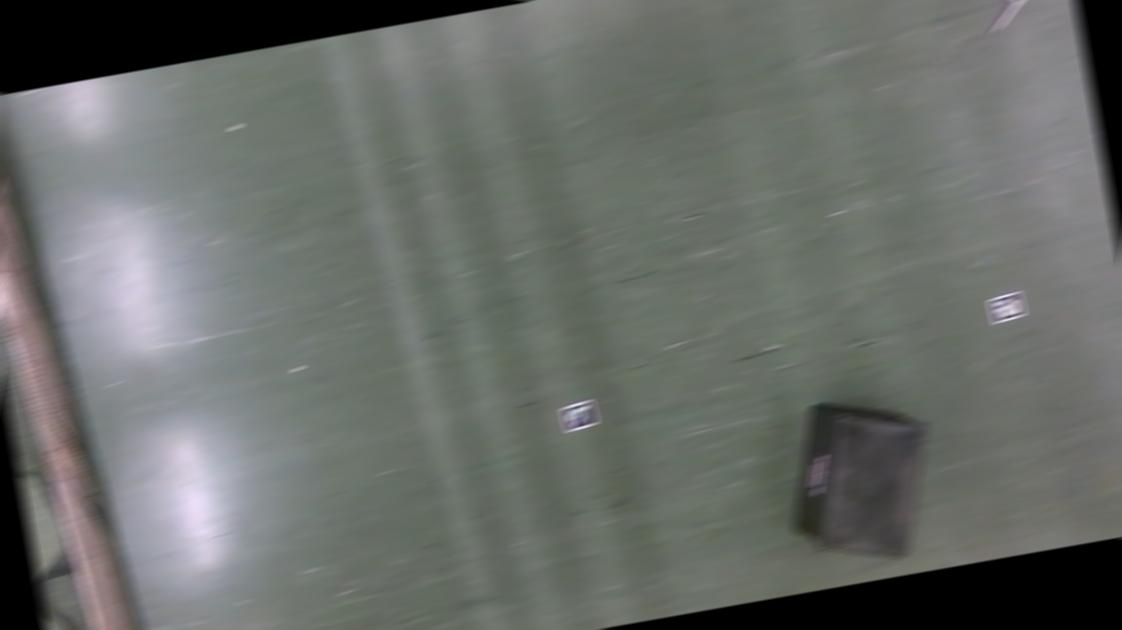probes: (982, 1, 1033, 36)
rako: (771, 382, 950, 574)
